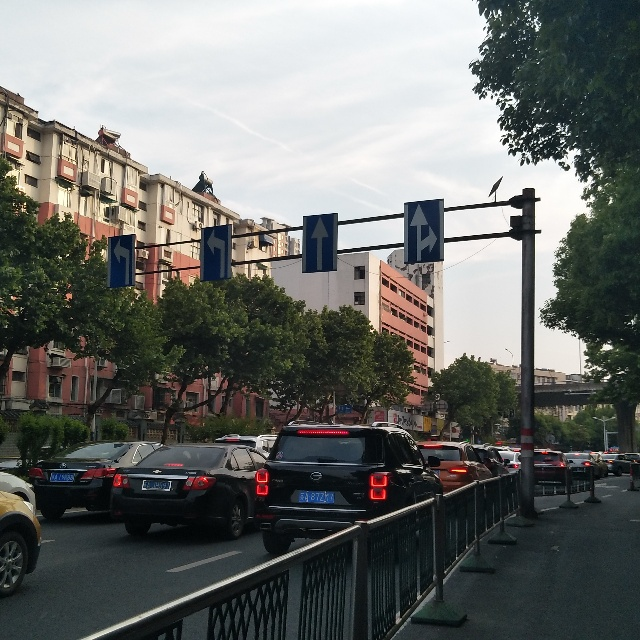left: (200, 224, 232, 283), (106, 234, 136, 289)
straight: (301, 213, 339, 274)
